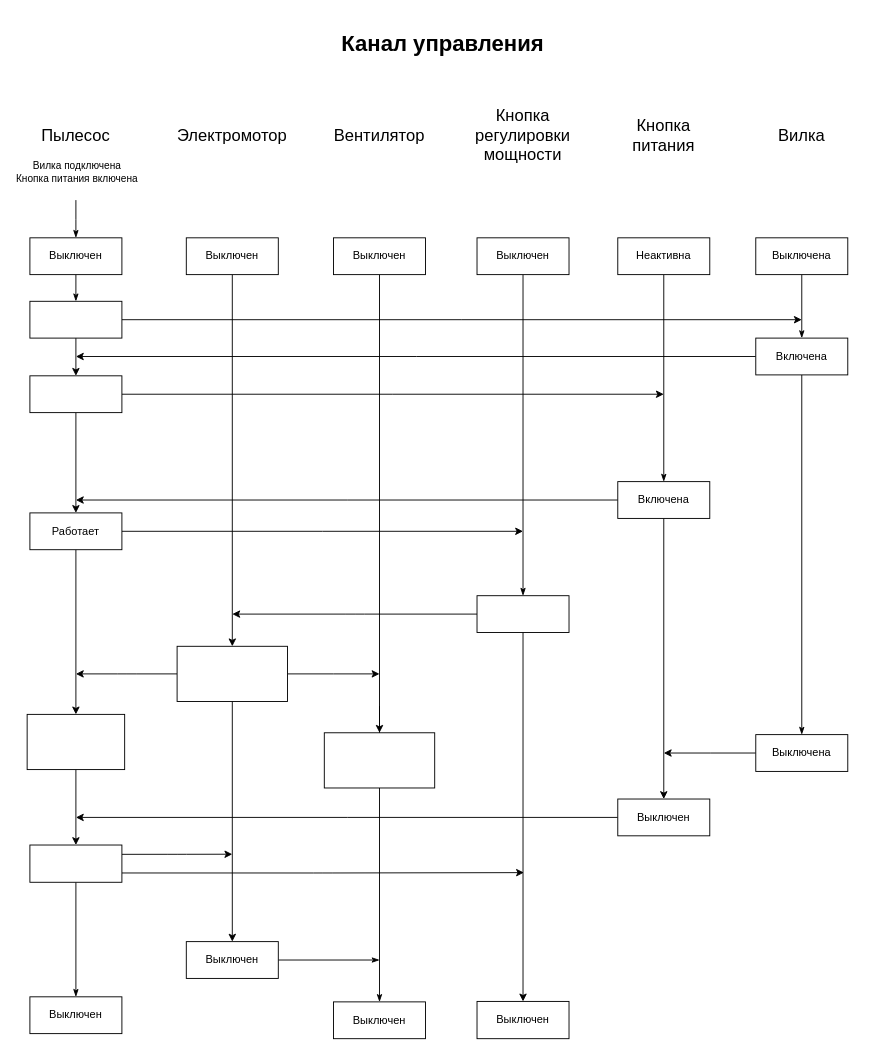
Some shapes in this 876 by 1054 pixel diagram are drawn without their labels. The box of each missing label's shape, as (x1, y1, x2, y2) in pixels:
Выключается: (29, 844, 122, 882)
Готово включиться: (29, 300, 122, 338)
Крутится с минимальной скоростью: (323, 732, 435, 788)
Минимальная мощность: (476, 595, 569, 632)
Подготовлен к работе: (29, 375, 122, 413)
Работает в минимальной мощности: (176, 645, 288, 702)
Работает в режиме 50% мощности: (26, 713, 125, 770)
